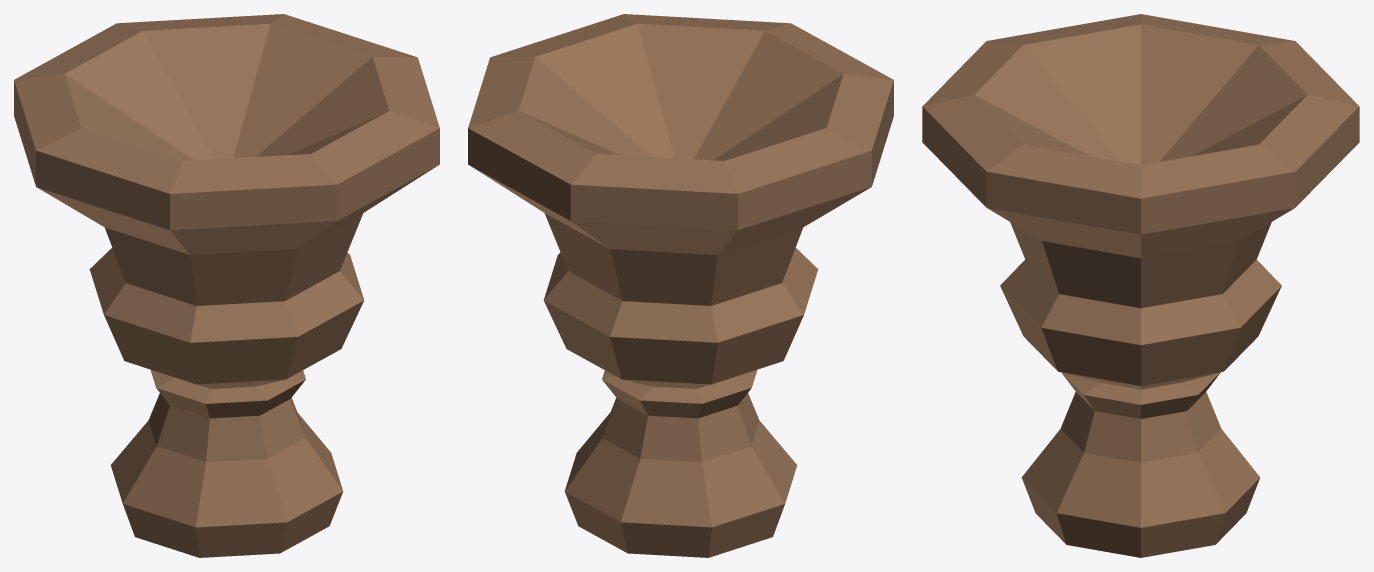
The model's file is Flowerpot-02.FBX.
3 views of the same model, side by side, from view 1: azimuth 30°, elevation 25°; view 2: azimuth 150°, elevation 25°; view 3: azimuth 270°, elevation 25° (orthographic).
Parts seen in each view (by area): view 1: Cylinder001; view 2: Cylinder001; view 3: Cylinder001.
Part boxes in pixels (box(x1,y1,x2,y2)): Cylinder001: box(14, 14, 439, 557); Cylinder001: box(468, 14, 893, 557); Cylinder001: box(922, 14, 1359, 557).
Bounding box in the file's own units: 172 × 181 × 172.
